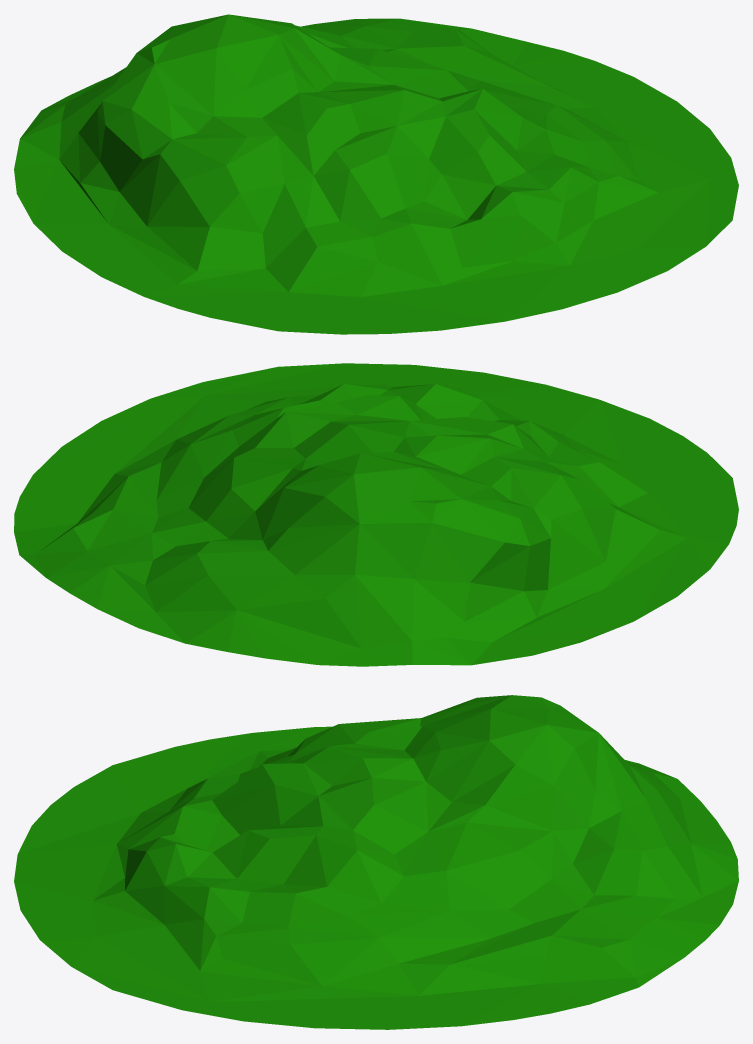
Rendered from hill_2.fbx.
3 renders of one model, top to bottom at view 1: azimuth 30°, elevation 25°; view 2: azimuth 150°, elevation 25°; view 3: azimuth 270°, elevation 25°, orthographic.
Parts seen in each view (by area): view 1: Plane.001; view 2: Plane.001; view 3: Plane.001.
Part boxes in pixels (bbox=[...]): Plane.001: bbox=[14, 14, 738, 334]; Plane.001: bbox=[14, 363, 738, 666]; Plane.001: bbox=[14, 695, 738, 1029].
Bounding box in the file's own units: 22293 × 4168 × 22436.
